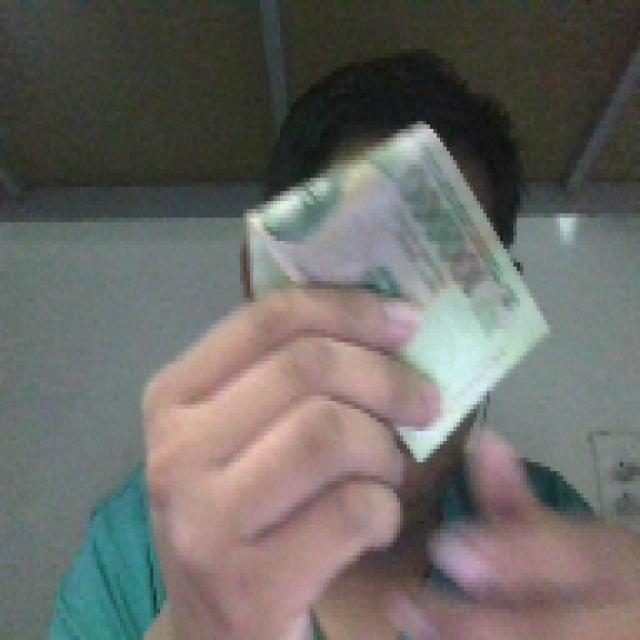100 000 VND: (237, 116, 553, 467)
